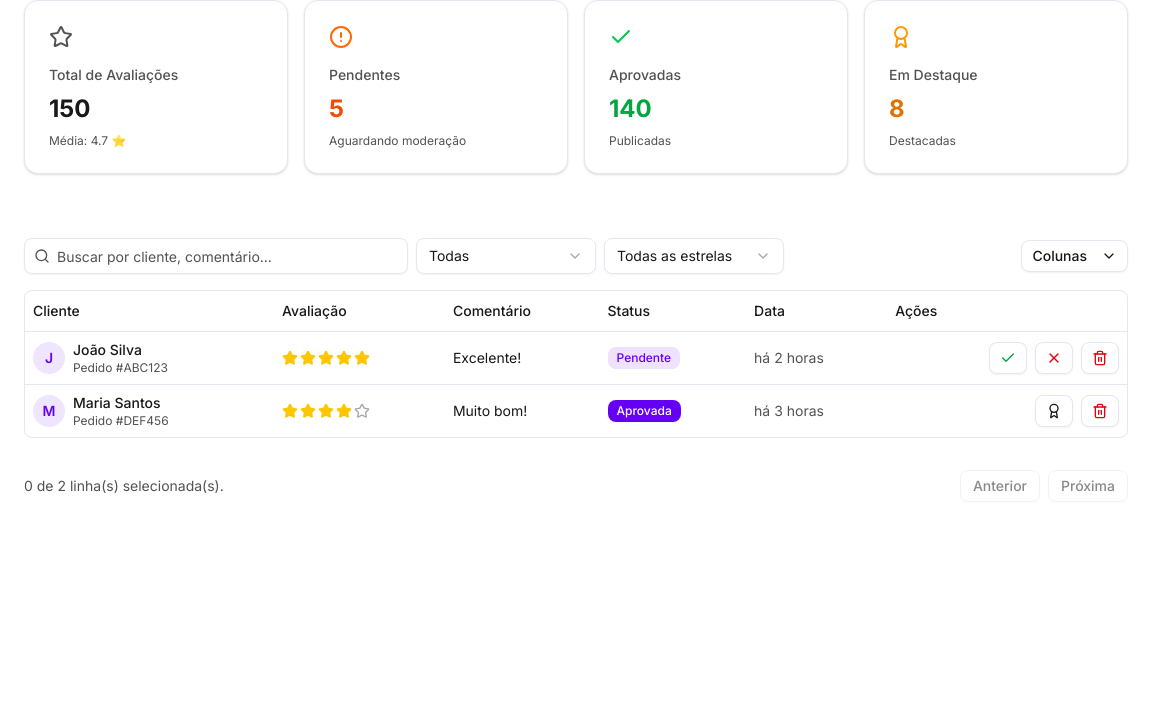
ReviewsPage › deve buscar por texto
Check: the text "João Silva" is shown, box x1=73 y1=340 x2=142 y2=358
Type "João" into the field with placeholder "Buscar por cliente, comentário...".
click(216, 256); type("João")  # box x1=24 y1=238 x2=408 y2=274
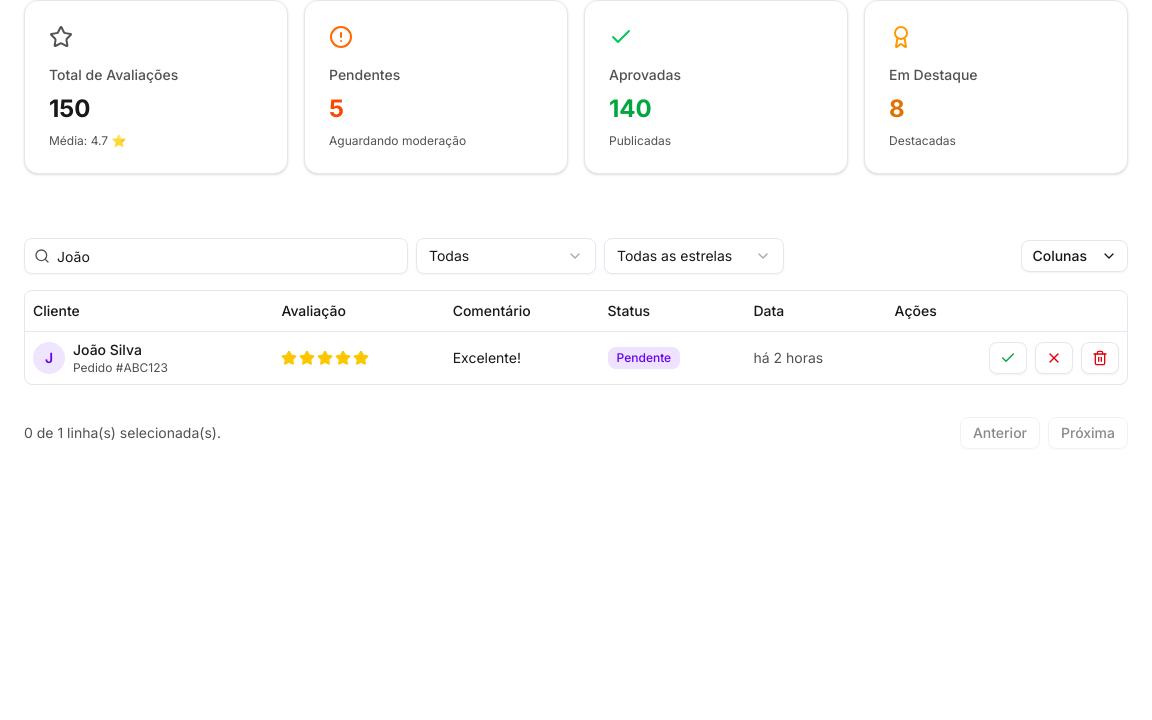
Check: the text "João Silva" is shown, box x1=73 y1=340 x2=142 y2=358
Check: the text "Maria Santos" is gone
